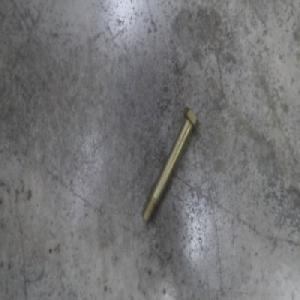Bolt: (141, 105, 198, 225)
